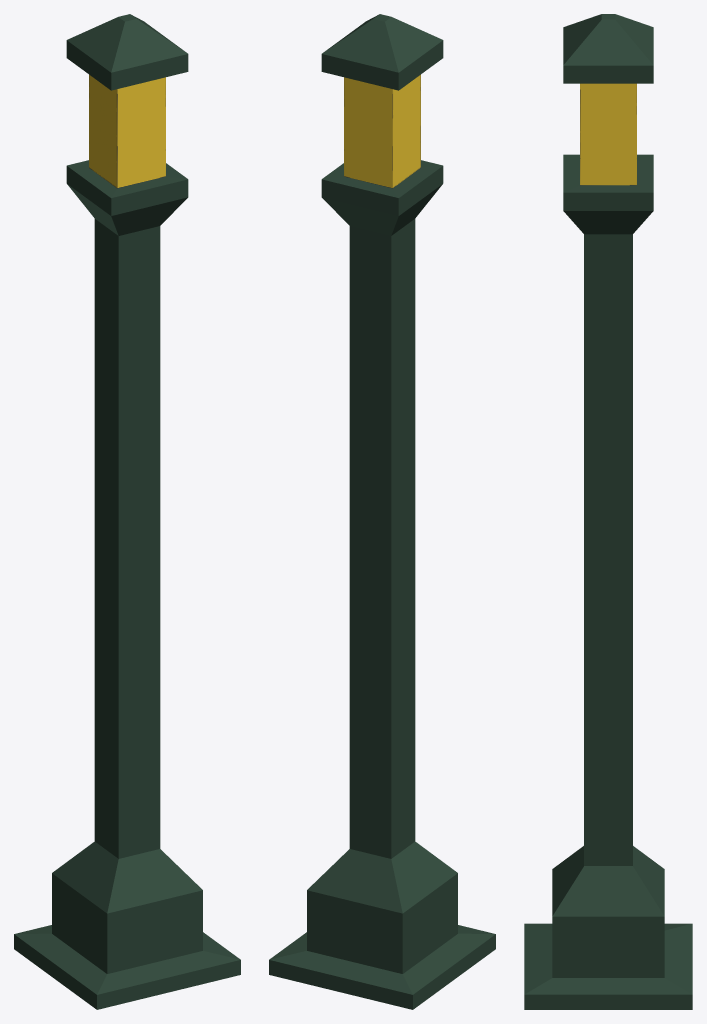
Rendered from lamp post.obj.
3 views of the same model, side by side, from view 1: azimuth 30°, elevation 25°; view 2: azimuth 150°, elevation 25°; view 3: azimuth 270°, elevation 25° (orthographic).
Parts seen in each view (by area): view 1: Cube_Cube.001; view 2: Cube_Cube.001; view 3: Cube_Cube.001.
Boxes of the visible parts, left/top/right/bottom form: Cube_Cube.001: left=14, top=14, right=240, bottom=1009; Cube_Cube.001: left=269, top=14, right=495, bottom=1009; Cube_Cube.001: left=524, top=14, right=692, bottom=1009.
Bounding box in the file's own units: 1.88 × 11.78 × 1.88.
1 material, 1 textured.
